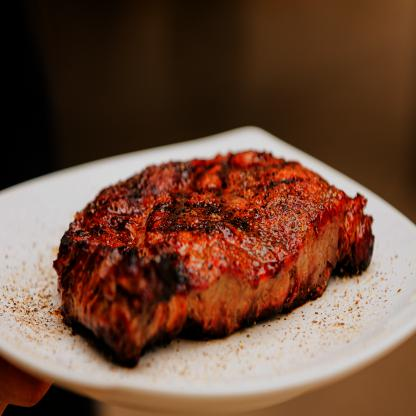Carne: (59, 145, 376, 363)
